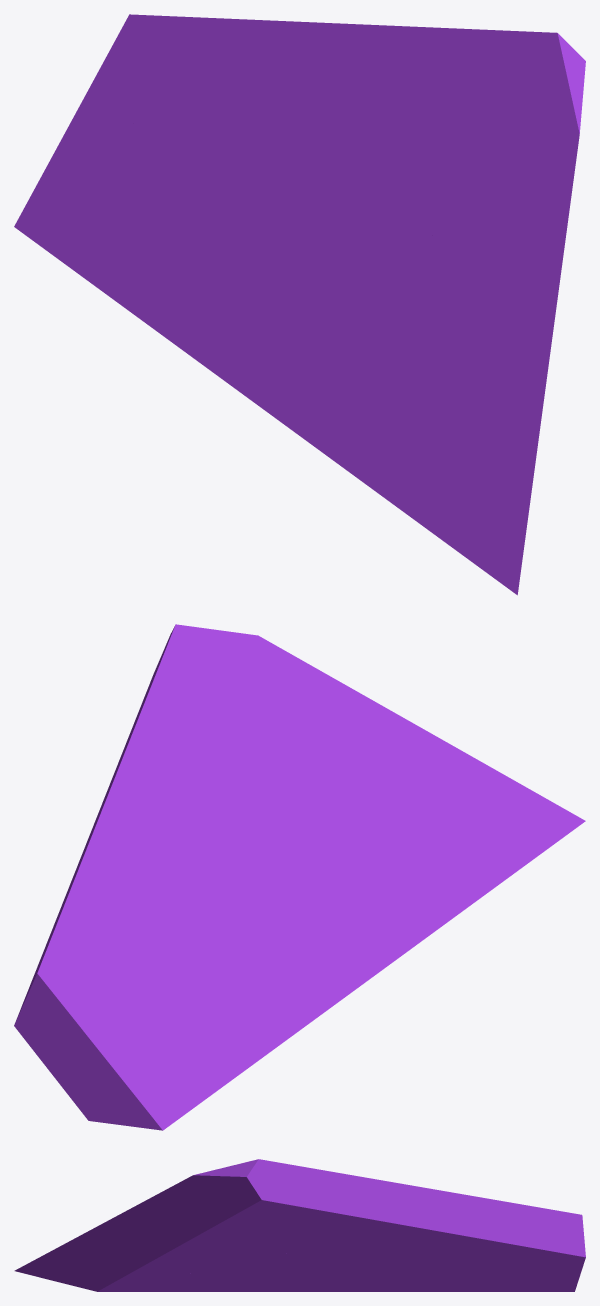
The model's file is Window_114_0_chunks.fbx.
3 renders of one model, top to bottom at view 1: azimuth 30°, elevation 25°; view 2: azimuth 150°, elevation 25°; view 3: azimuth 270°, elevation 25°, orthographic. The views are drawn at different scales.
Visible parts, largest first — view 1: Window_114_0_6, Window_114_0_10, Window_114_0_3, Window_114_0_11, Window_114_0_0, Window_114_0_8, Window_114_0_12, Window_114_0_4, Window_114_0_13, Window_114_0_1, Window_114_0_2, Window_114_0_7; view 2: Window_114_0_10, Window_114_0_6, Window_114_0_3, Window_114_0_8, Window_114_0_11, Window_114_0_0, Window_114_0_12, Window_114_0_4, Window_114_0_13, Window_114_0_1, Window_114_0_2, Window_114_0_7; view 3: Window_114_0_0, Window_114_0_8, Window_114_0_11, Window_114_0_3, Window_114_0_6, Window_114_0_5, Window_114_0_9, Window_114_0_14, Window_114_0_7, Window_114_0_10, Window_114_0_12, Window_114_0_13 (+1 smaller).
Part boxes in pixels (x1,y1,x2,y2): Window_114_0_6: (125, 204, 393, 429); Window_114_0_10: (14, 118, 241, 307); Window_114_0_3: (421, 186, 570, 507); Window_114_0_11: (229, 22, 414, 245); Window_114_0_0: (385, 26, 585, 204); Window_114_0_8: (73, 14, 303, 132); Window_114_0_12: (381, 394, 529, 595); Window_114_0_4: (328, 111, 532, 245); Window_114_0_13: (292, 353, 419, 495); Window_114_0_1: (323, 197, 457, 301); Window_114_0_2: (334, 219, 430, 347); Window_114_0_7: (385, 307, 455, 398); Window_114_0_10: (77, 925, 255, 1130); Window_114_0_6: (235, 840, 395, 1062); Window_114_0_3: (283, 664, 522, 828); Window_114_0_8: (14, 831, 155, 1105); Window_114_0_11: (81, 741, 243, 946); Window_114_0_0: (106, 624, 307, 793); Window_114_0_12: (412, 785, 585, 904); Window_114_0_4: (184, 689, 305, 861); Window_114_0_13: (365, 845, 471, 959); Window_114_0_1: (232, 769, 340, 867); Window_114_0_2: (251, 807, 372, 863); Window_114_0_7: (334, 815, 420, 859); Window_114_0_0: (149, 1159, 375, 1258); Window_114_0_8: (430, 1192, 585, 1286); Window_114_0_11: (347, 1178, 449, 1253); Window_114_0_3: (49, 1190, 165, 1254); Window_114_0_6: (274, 1250, 429, 1291); Window_114_0_5: (215, 1250, 345, 1291); Window_114_0_9: (355, 1247, 465, 1291); Window_114_0_14: (39, 1259, 178, 1291); Window_114_0_7: (95, 1254, 244, 1273); Window_114_0_10: (435, 1269, 576, 1291); Window_114_0_12: (14, 1252, 103, 1276); Window_114_0_13: (176, 1277, 258, 1291).
Size of the model in its own units: 372 by 412 by 1171.
